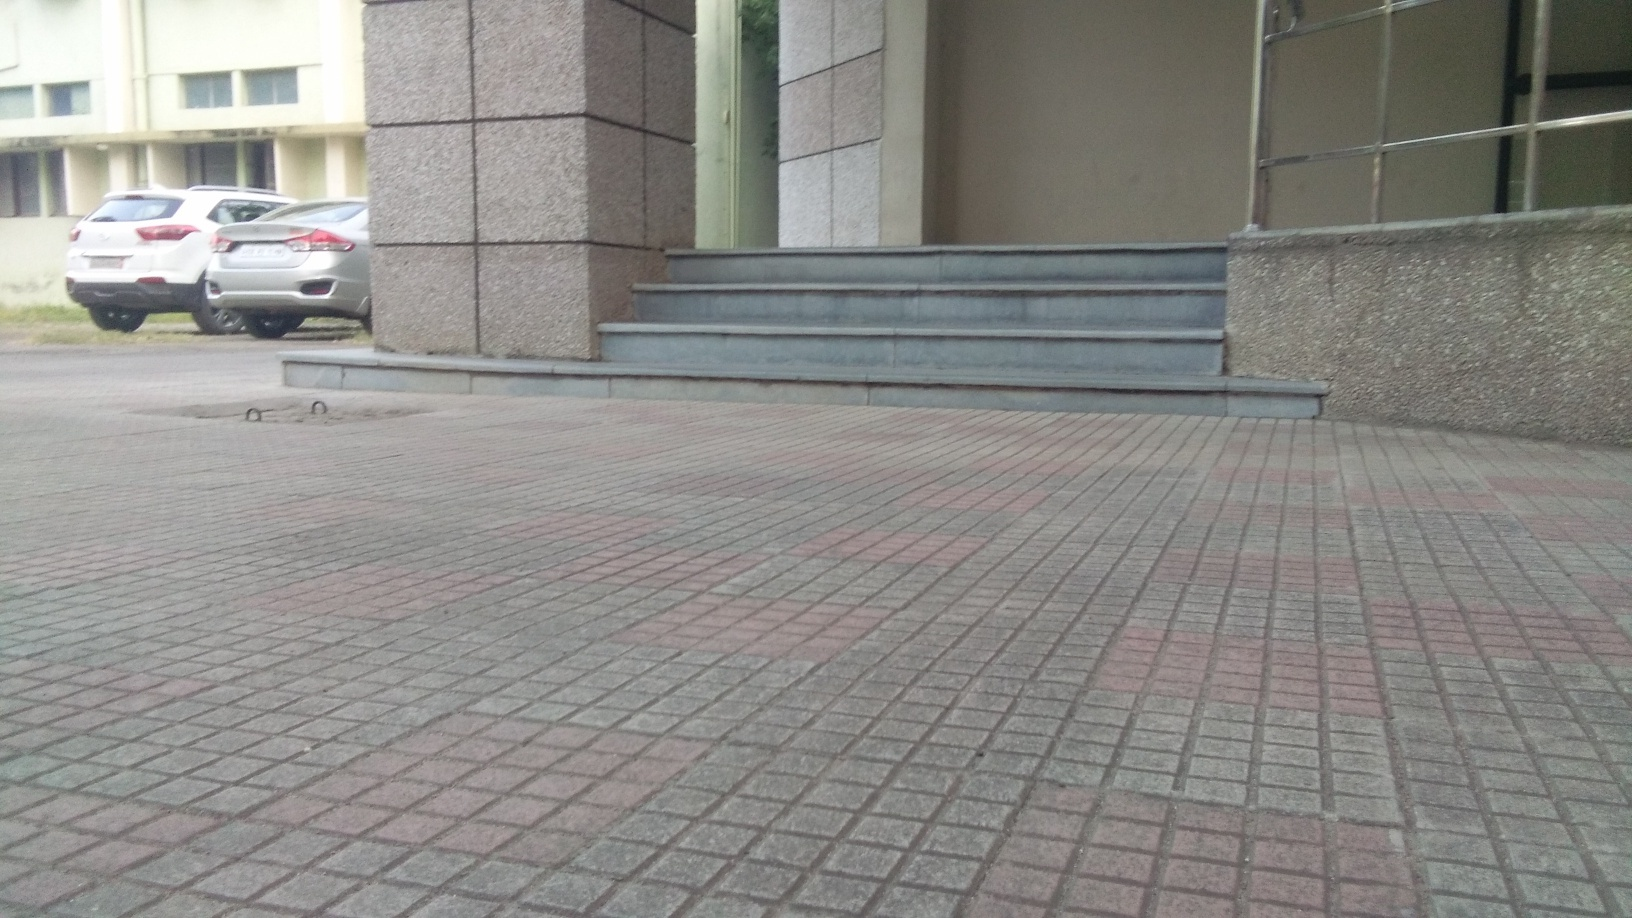stairs_up: (602, 238, 1227, 412)
